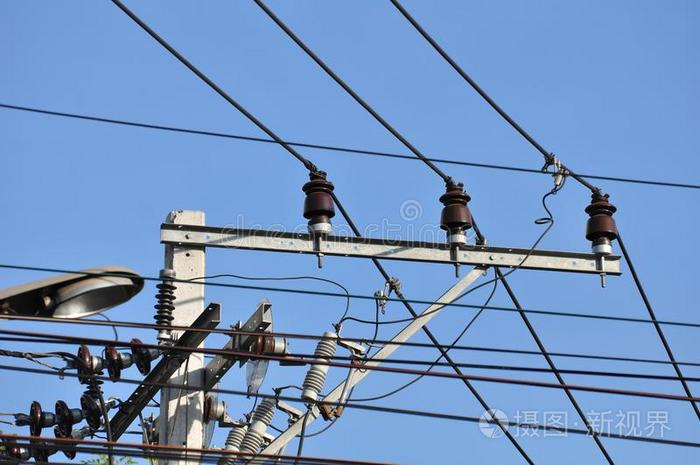insulator: (71, 336, 151, 384), (23, 394, 105, 433), (6, 431, 80, 465)
